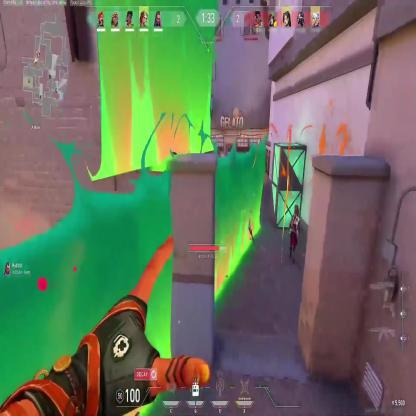enemy: (287, 201, 299, 262)
enemy_head: (294, 206, 298, 216)
